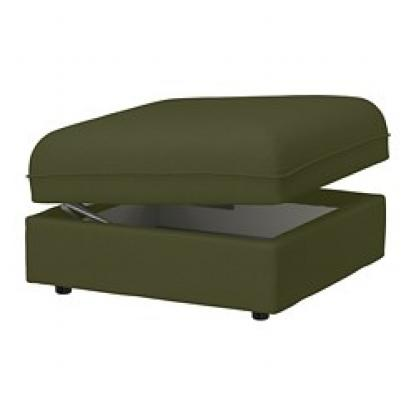Sofa: (19, 52, 394, 333)
